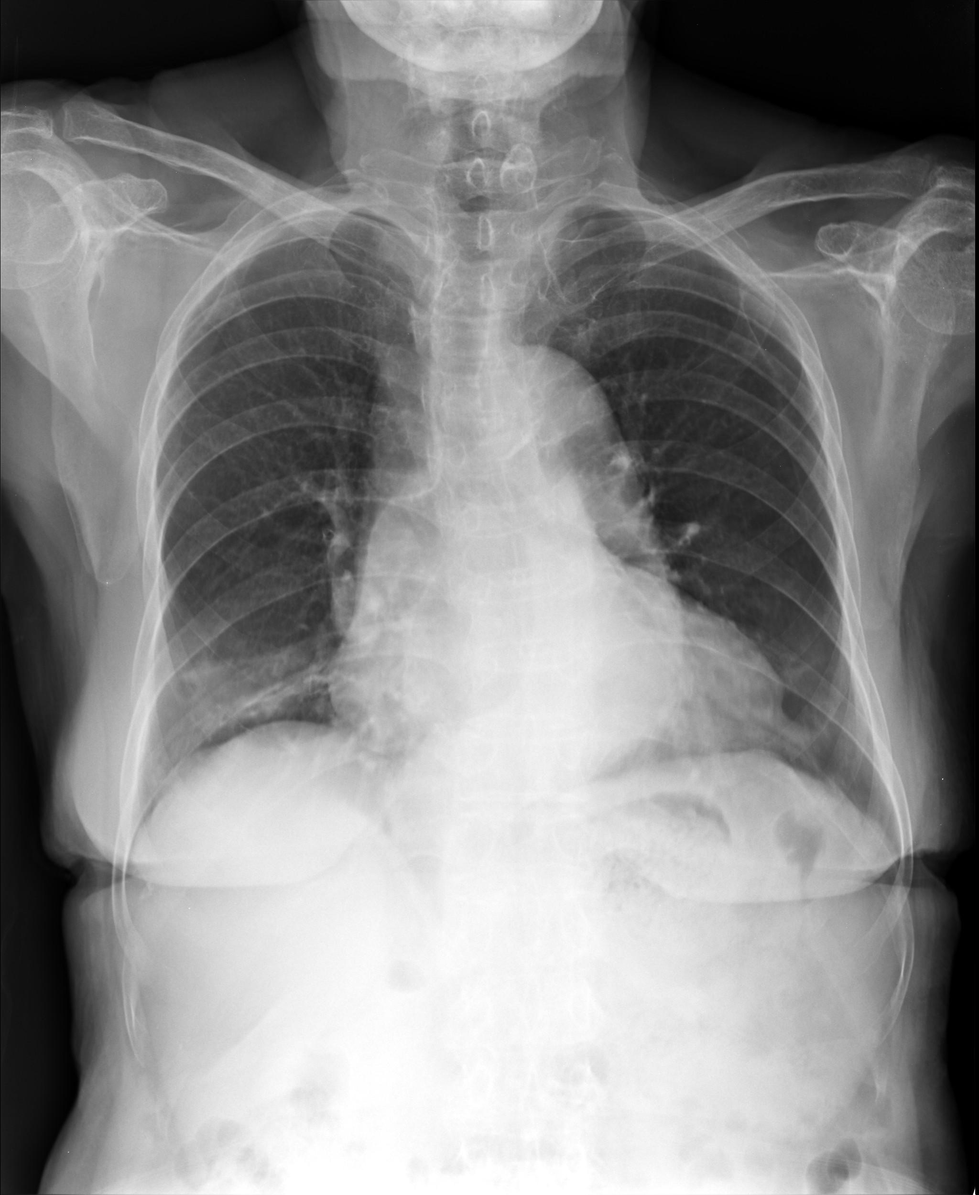Aortic enlargement: (476, 347, 642, 499)
Cardiomegaly: (326, 659, 786, 755)
